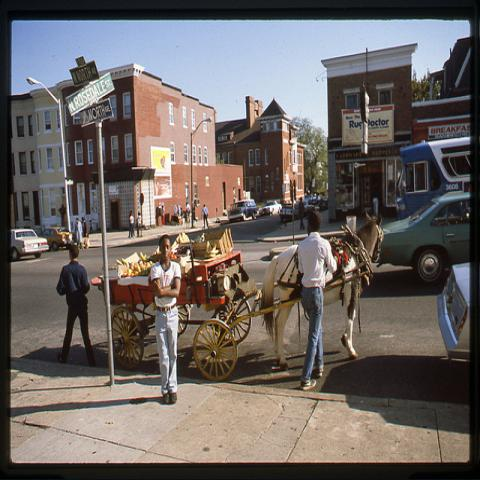bus: (396, 137, 470, 220)
car: (379, 190, 471, 288), (436, 262, 472, 369), (12, 228, 50, 260), (40, 227, 72, 251), (258, 200, 282, 215), (294, 199, 316, 215), (280, 203, 293, 222)
truck: (228, 198, 257, 223)
